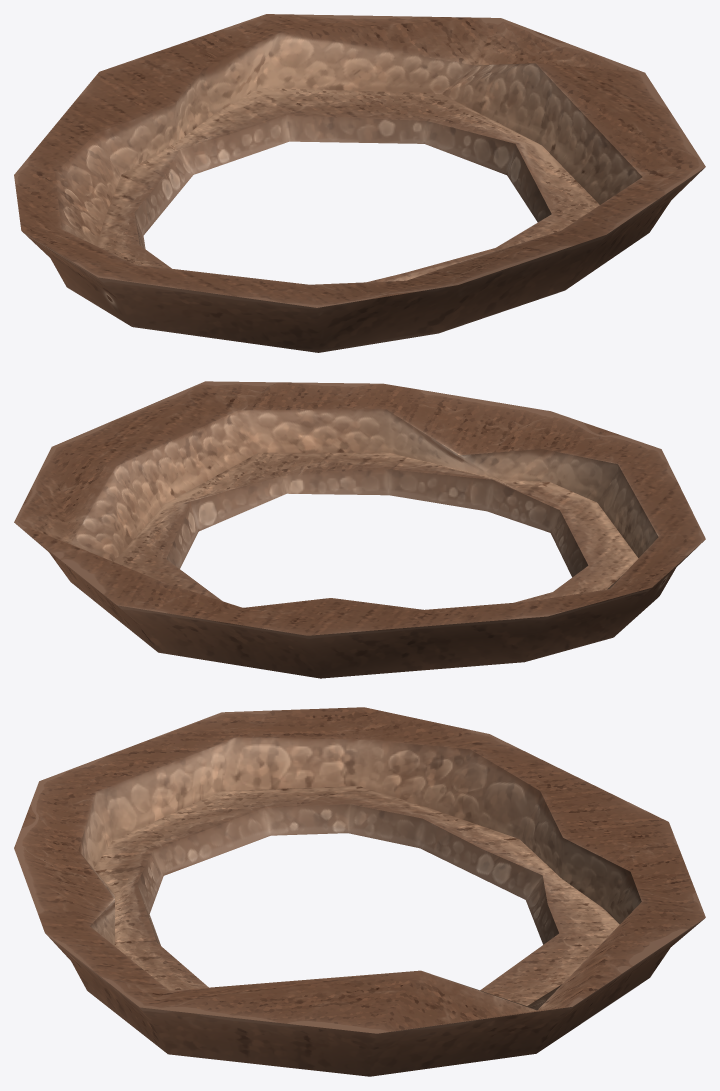
Rendered from Cave.fbx.
3 renders of one model, top to bottom at view 1: azimuth 30°, elevation 25°; view 2: azimuth 150°, elevation 25°; view 3: azimuth 270°, elevation 25°, orthographic. The views are drawn at different scales.
Visible parts, largest first — view 1: CuevaLow; view 2: CuevaLow; view 3: CuevaLow.
Boxes of the visible parts, bbox=[...] form: CuevaLow: bbox=[14, 14, 705, 352]; CuevaLow: bbox=[14, 381, 705, 678]; CuevaLow: bbox=[14, 707, 705, 1076].
Size of the model in its own units: 21424 by 2641 by 19188.
